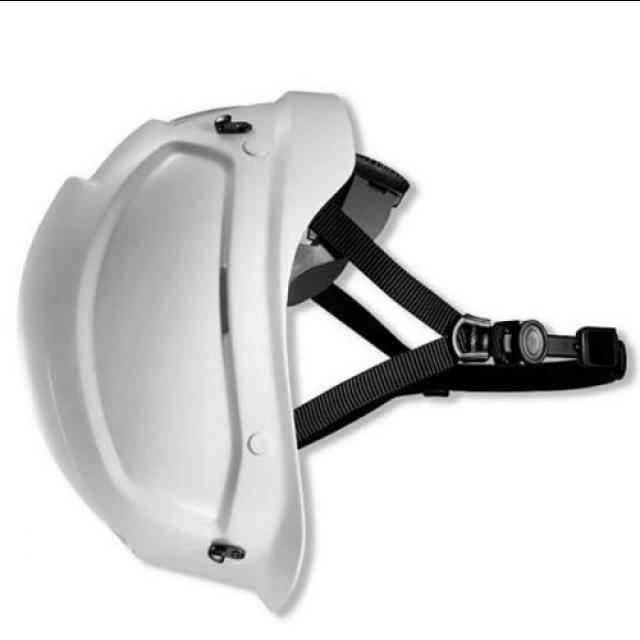safety_helmet: (18, 90, 384, 614)
